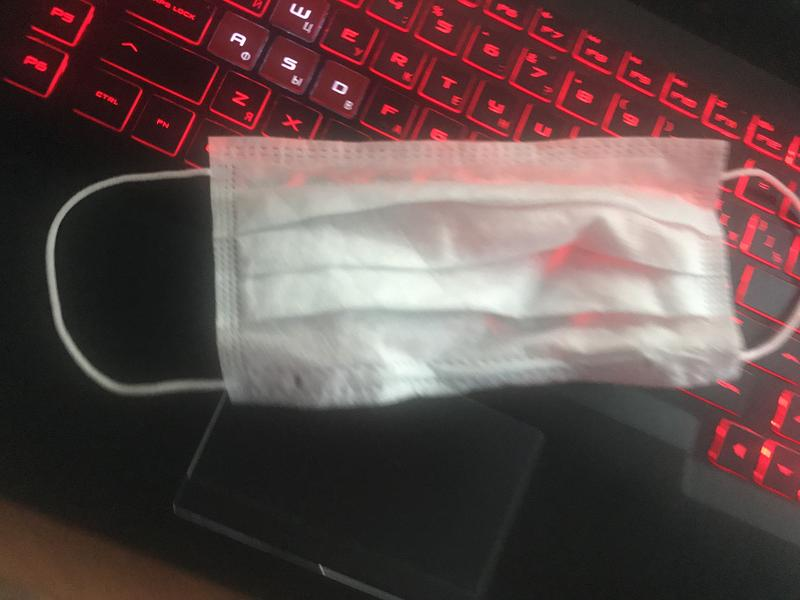medical_mask: (46, 136, 800, 393)
